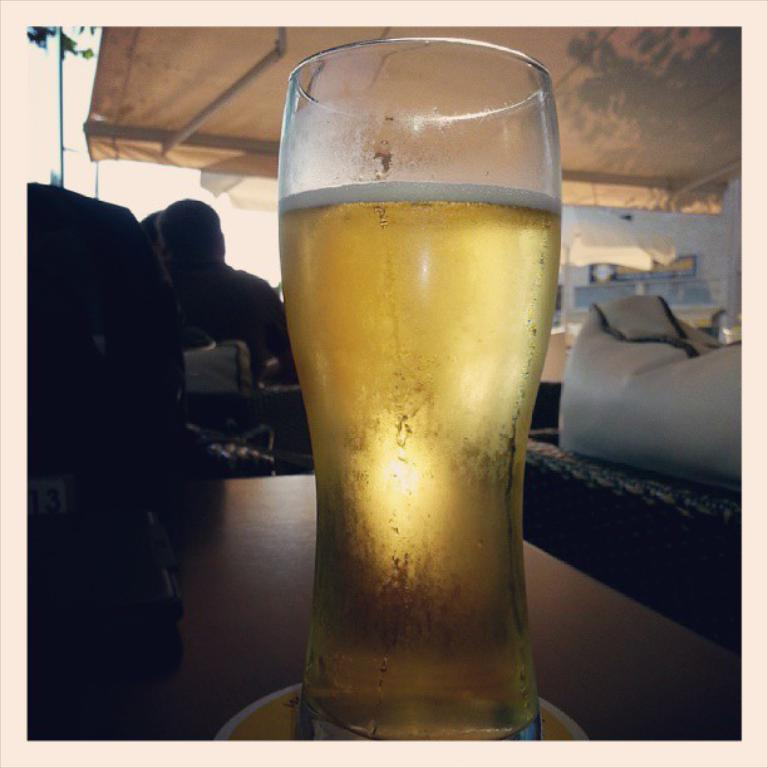Beer: (278, 180, 559, 742)
